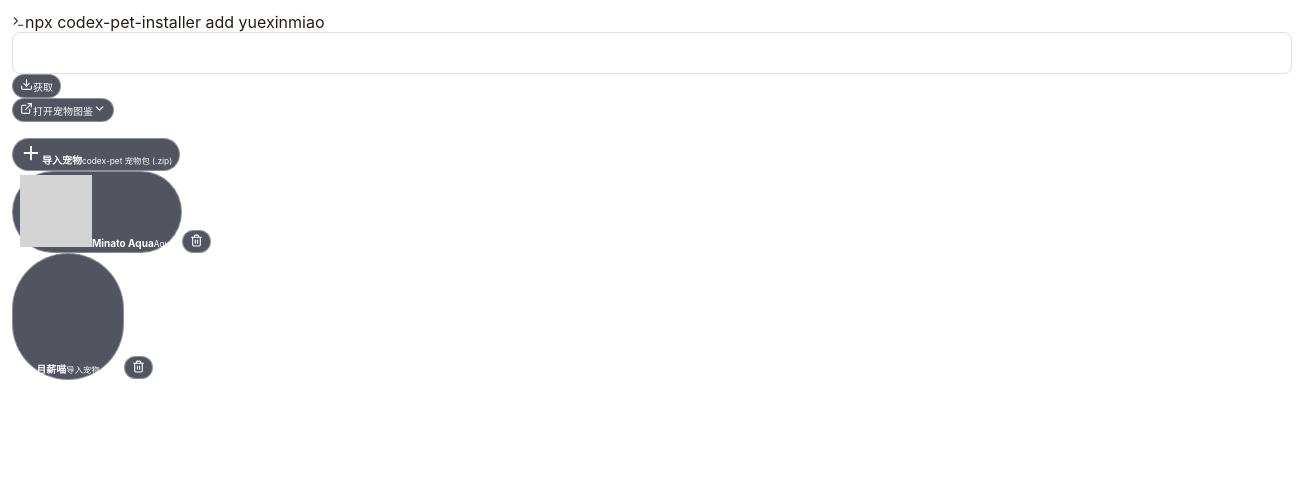
Scenario: PetThemeGrid removal › keeps the removal-failure notice localized with the raw error as detail (zh)
Click the 2nd button named "移除" at (138, 368), box [124,356,153,379]
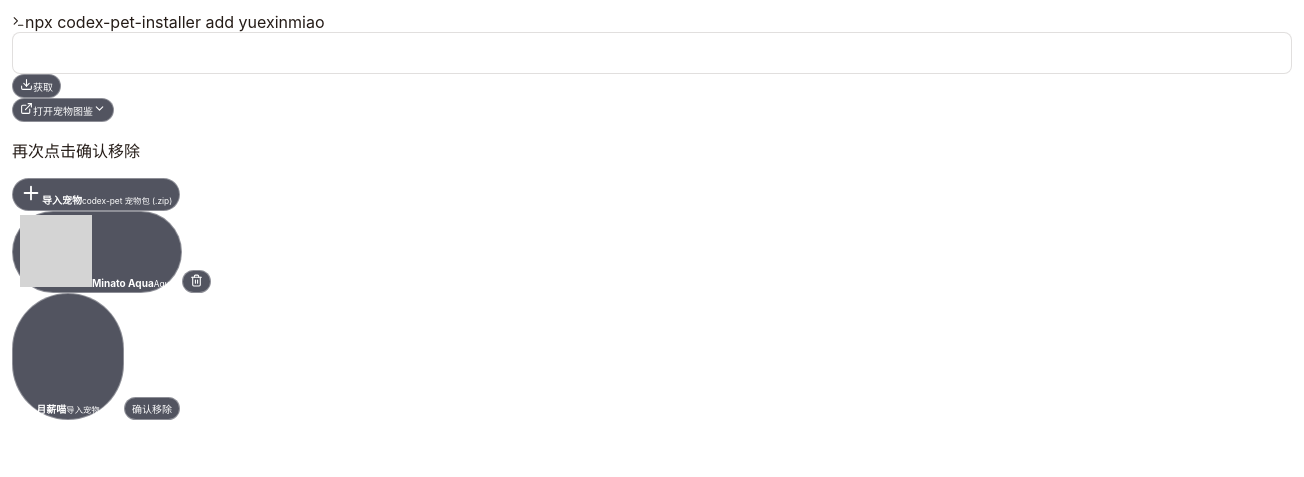
Click the button "确认移除" at (152, 408), box [124,397,180,420]
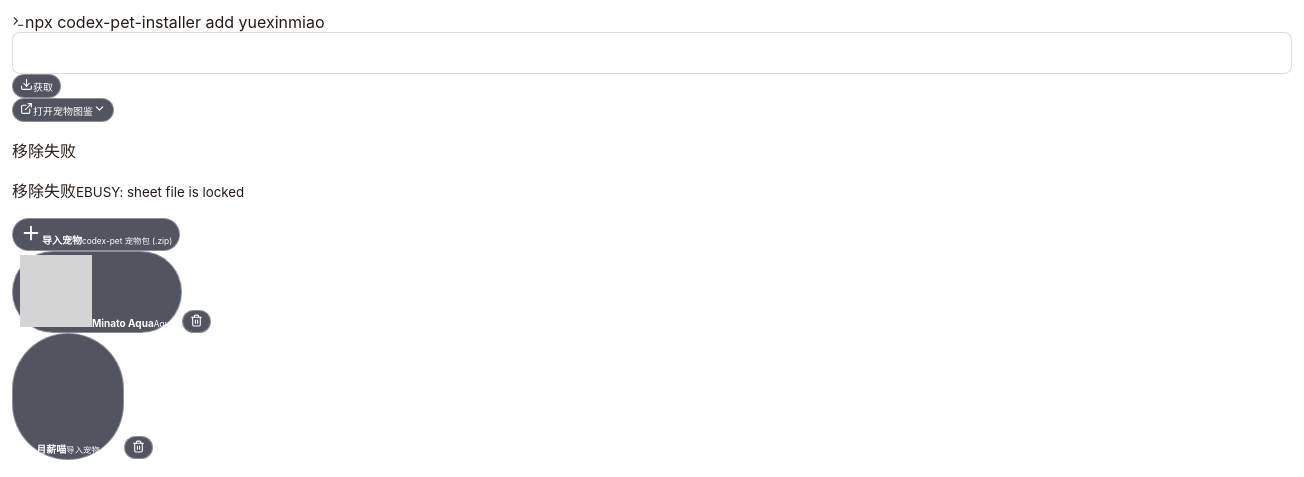
expect the element that starts with "移除失败" is shown: met, box [12,181,76,201]
expect the text "EBUSY: sheet file is locked" is shown: met, box [76,184,244,200]
